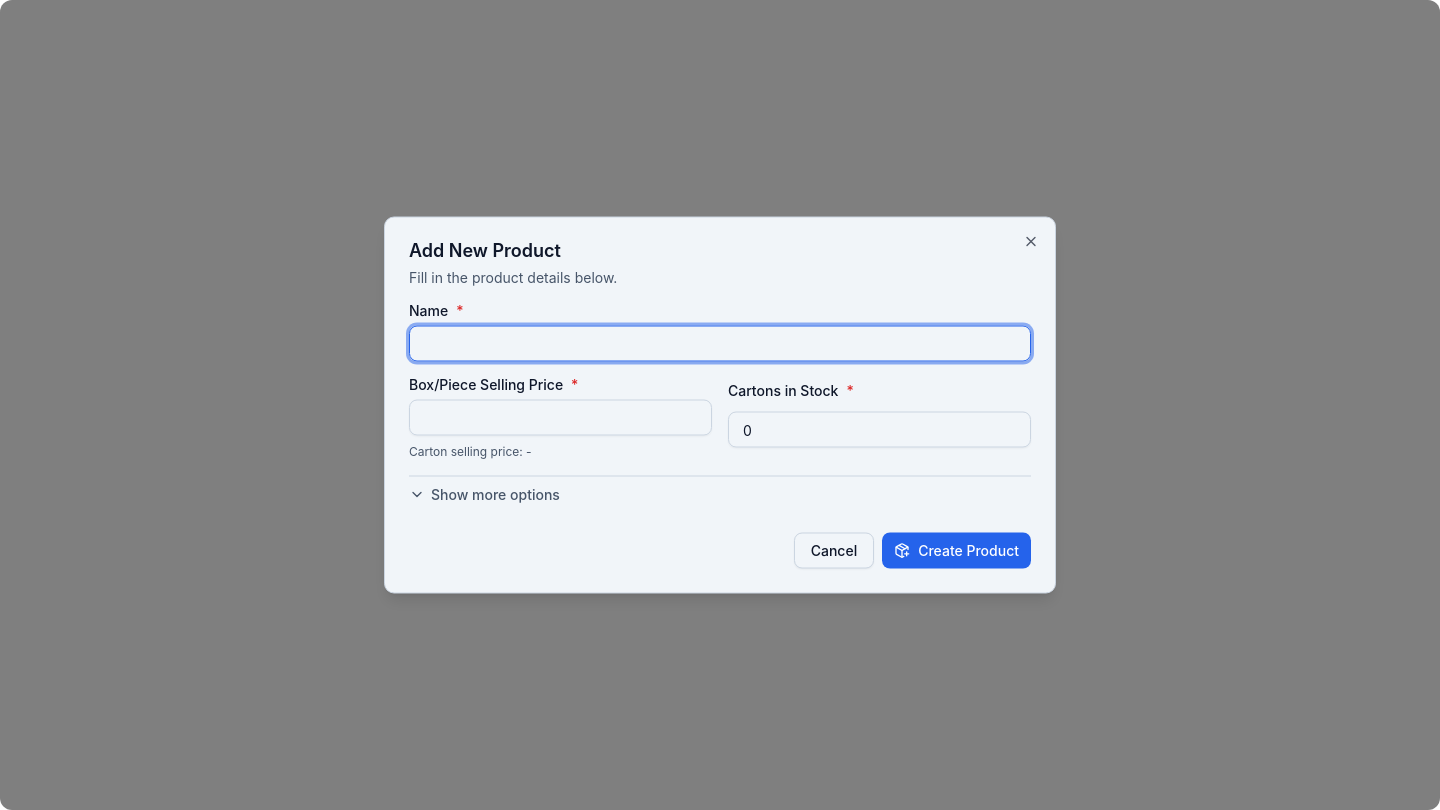
Test: ProductFormModal › requires the selling price to be greater than zero
Type "Zero Price Product" into the field named "Name*" at (720, 344), box [409,326,1031,362]
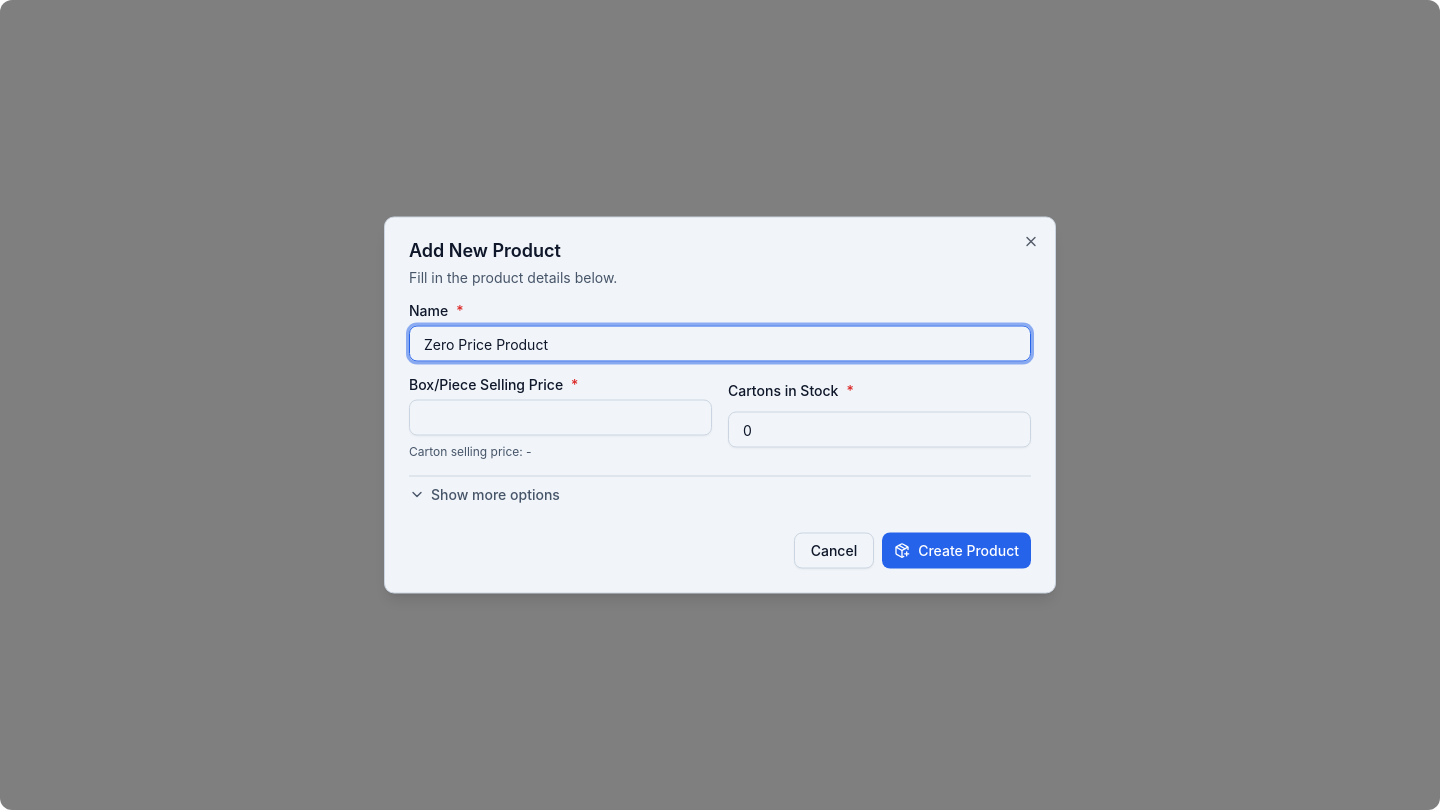
Type "0" into the field named "Box/Piece Selling Price*" at (560, 418), box [409,400,712,436]
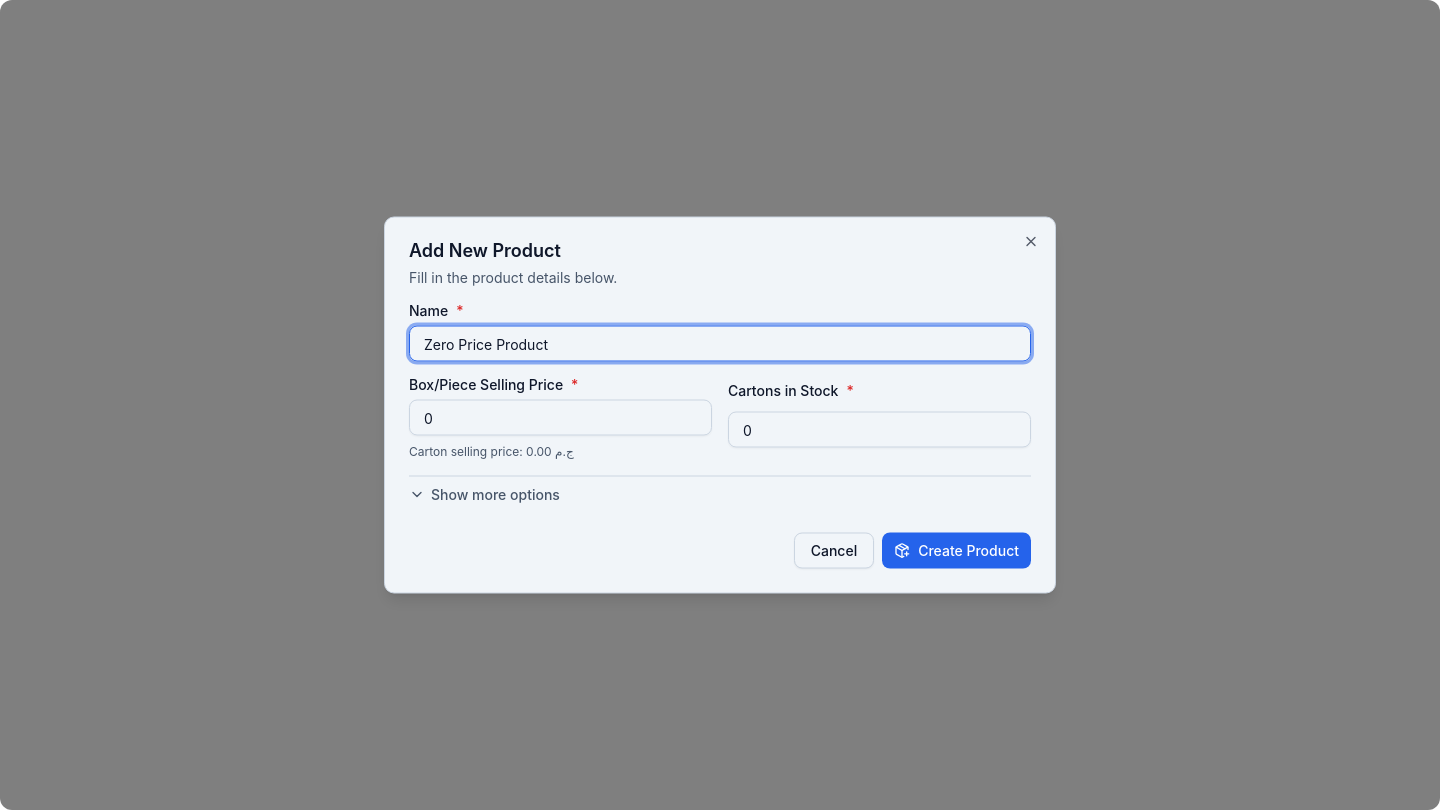
Click the button "Create Product" at (957, 550), box [882,532,1031,568]
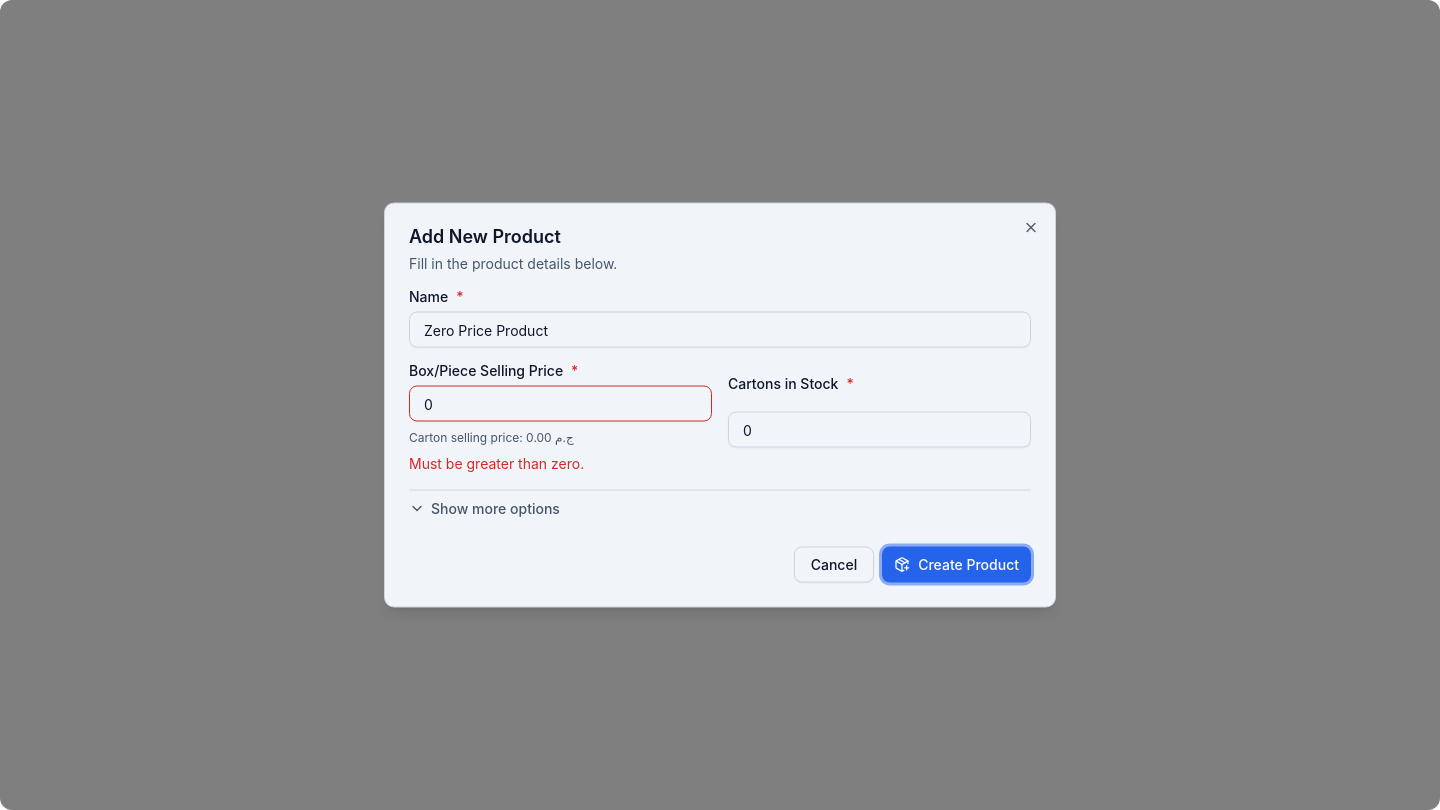
Now the text "Must be greater than zero." is shown, box [409,454,584,472]
